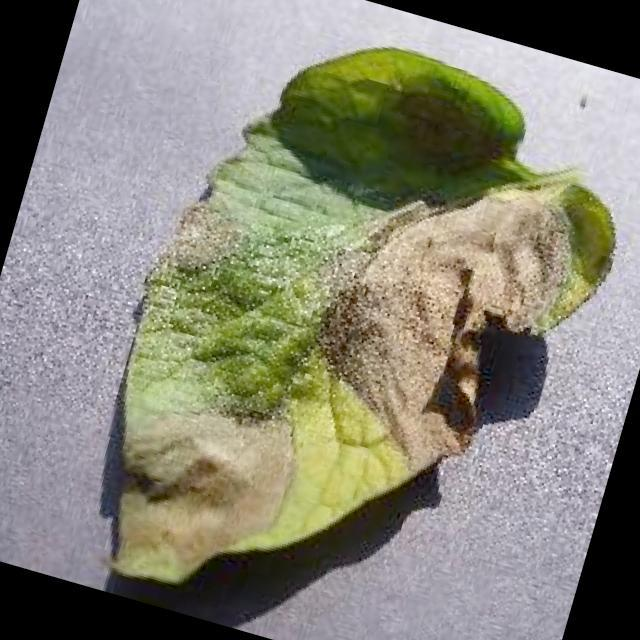Tomato late blight leaf: (62, 0, 640, 640)
